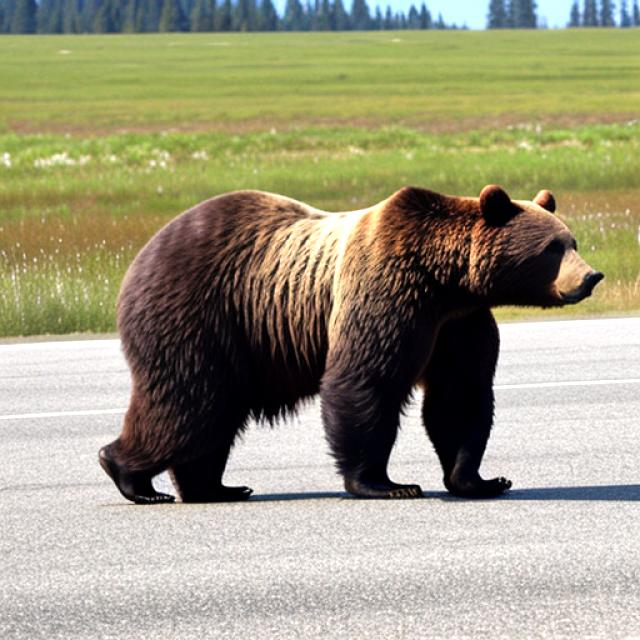bear: (104, 182, 594, 469)
